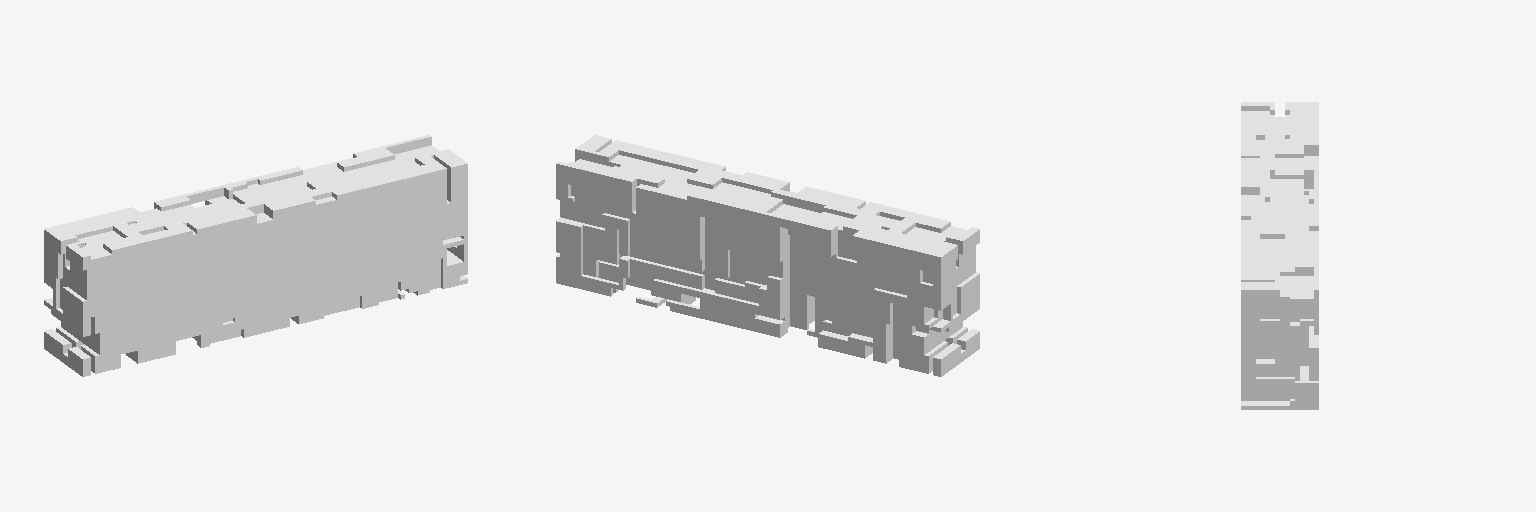
The model's file is rectangulo-2.obj.
The picture shows the model from 3 angles: view 1: azimuth 30°, elevation 25°; view 2: azimuth 150°, elevation 25°; view 3: azimuth 270°, elevation 25°; orthographic projection.
Visible parts, largest first — view 1: object 1; view 2: object 1; view 3: object 1.
Boxes of the visible parts, <box> form: object 1: <box>44,135,467,376</box>; object 1: <box>556,135,979,376</box>; object 1: <box>1241,102,1318,409</box>.
Bounding box in the file's own units: 9.1 × 2.7 × 1.6.